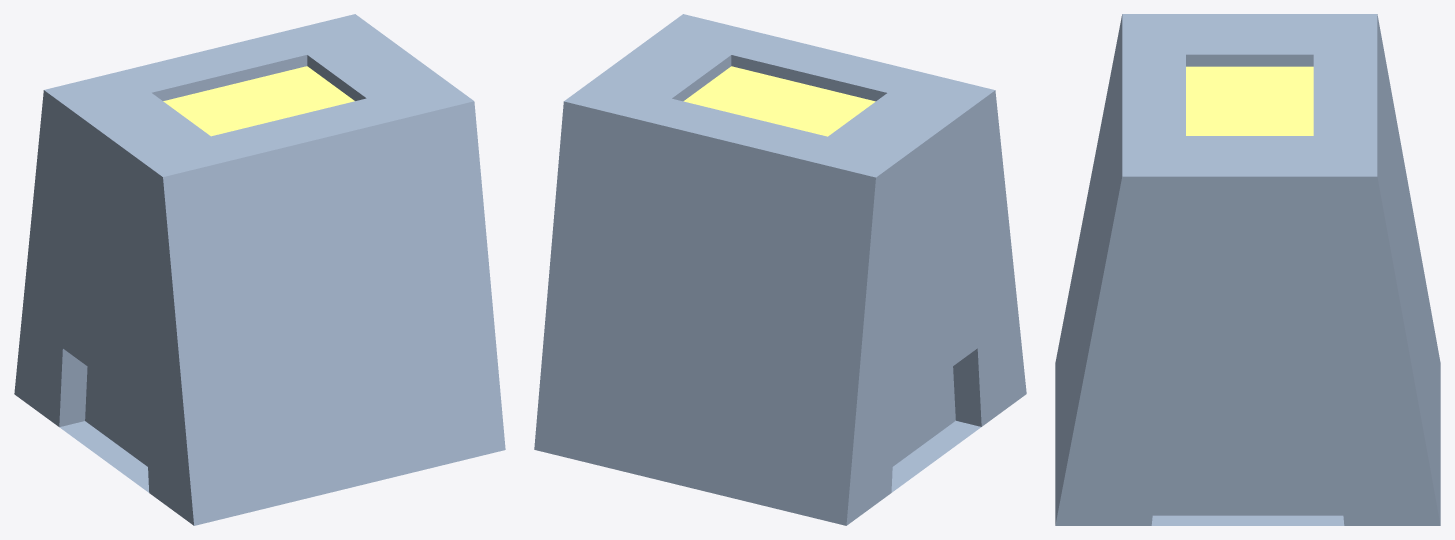
File: Library.dae
3 renders of one model, left to right at view 1: azimuth 30°, elevation 25°; view 2: azimuth 150°, elevation 25°; view 3: azimuth 270°, elevation 25°, orthographic. The views are drawn at different scales.
Parts seen in each view (by area): view 1: Cube; view 2: Cube; view 3: Cube.
Part boxes in pixels (left/top/right/bottom): Cube: left=14, top=14, right=505, bottom=525; Cube: left=534, top=14, right=1026, bottom=525; Cube: left=1055, top=14, right=1440, bottom=525.
Size of the model in its own units: 2 by 2 by 2.
